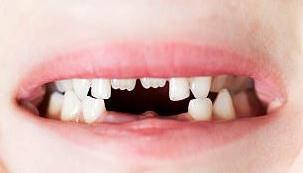Hypodontia: (102, 101, 150, 123), (152, 101, 196, 123)
